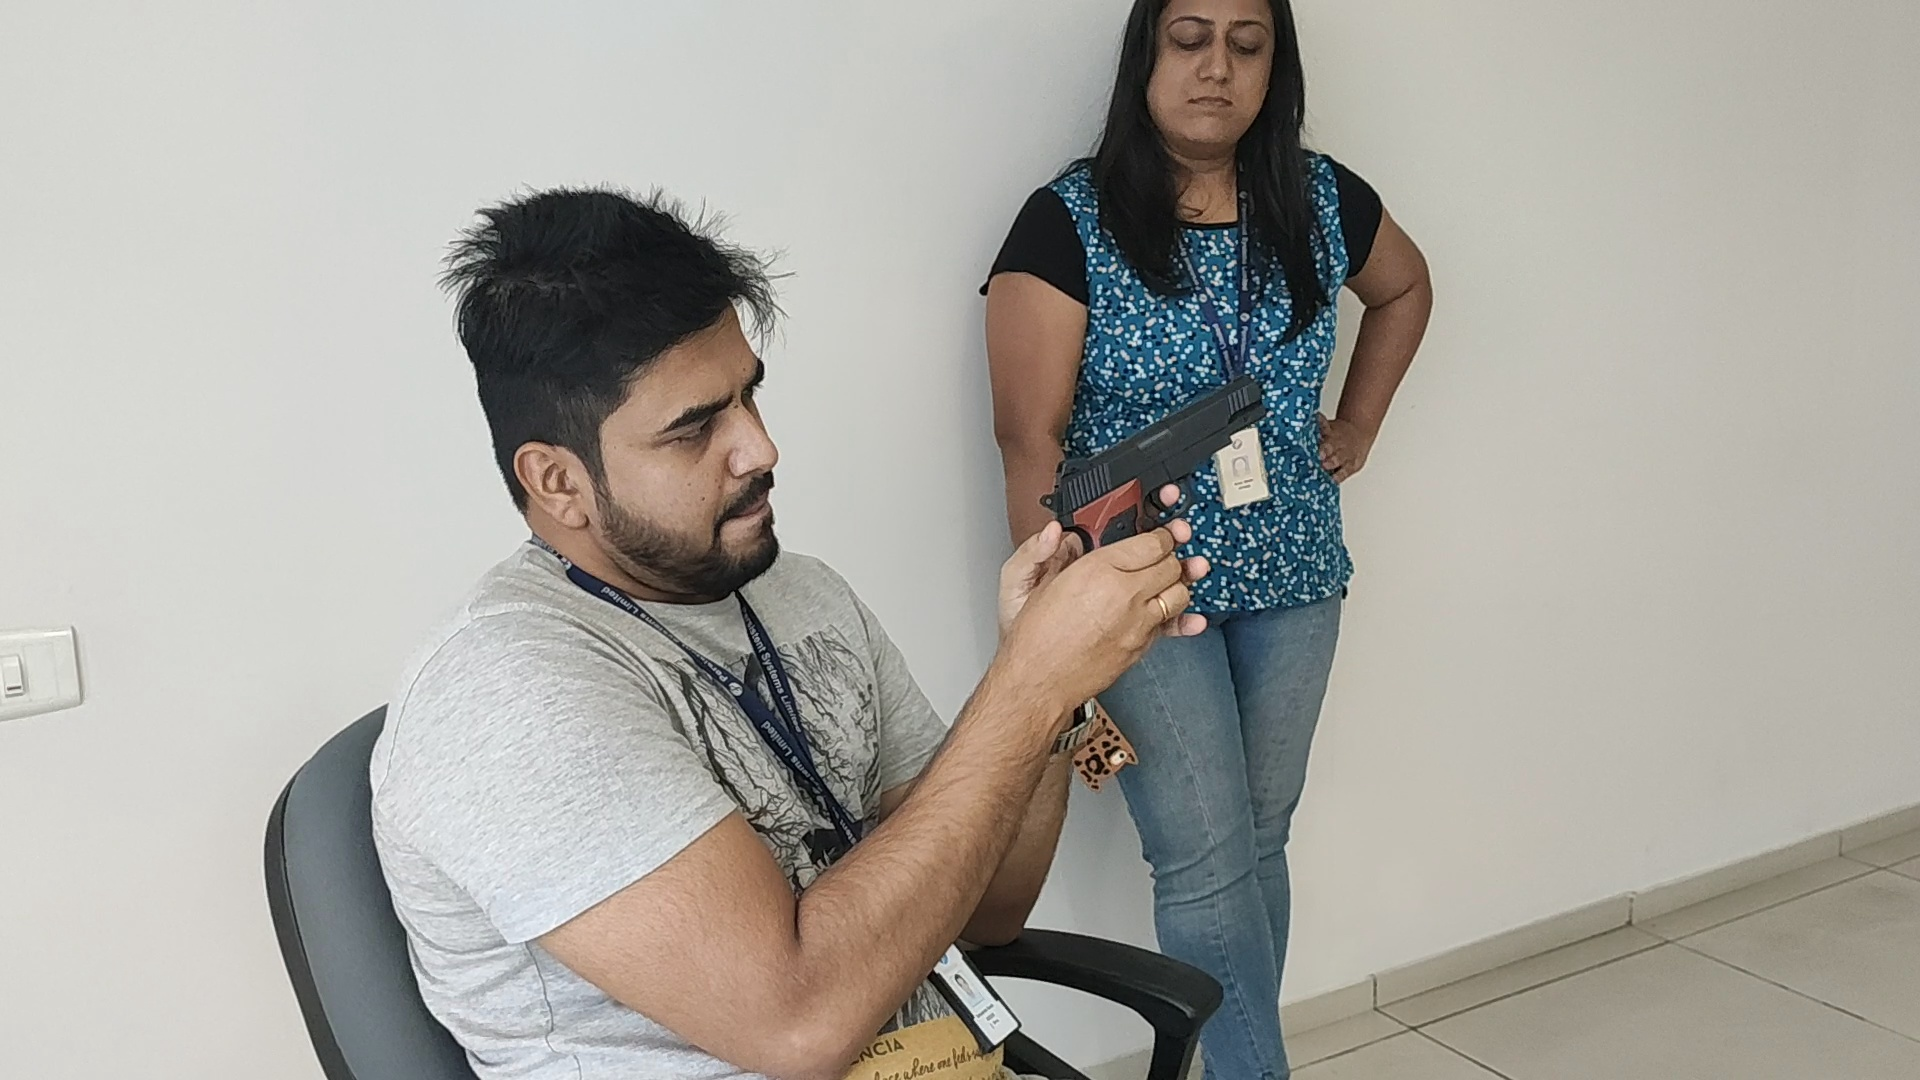gun: (1039, 376, 1269, 521)
